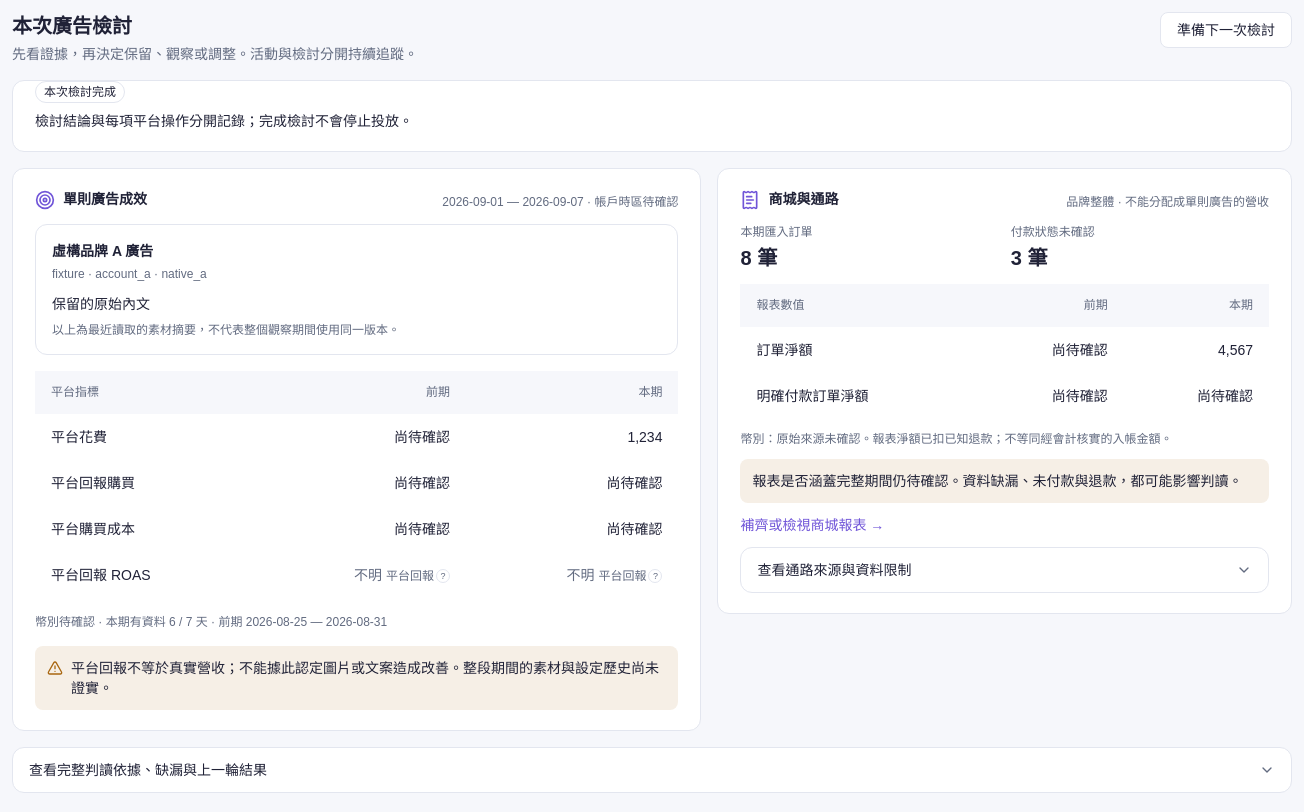
F36-I09 組織時鐘：觀察期間預設 › 結束日是組織的昨天（UTC+14 已是 3/1），不是瀏覽器的；下一輪門檻也用同一個今天
The width and height of the screenshot is (1304, 812).
What coordinates should you click on to do the following:
click the button "準備下一次檢討"
I would click on:
 (1226, 30)
Its box is [1160,12,1292,48].
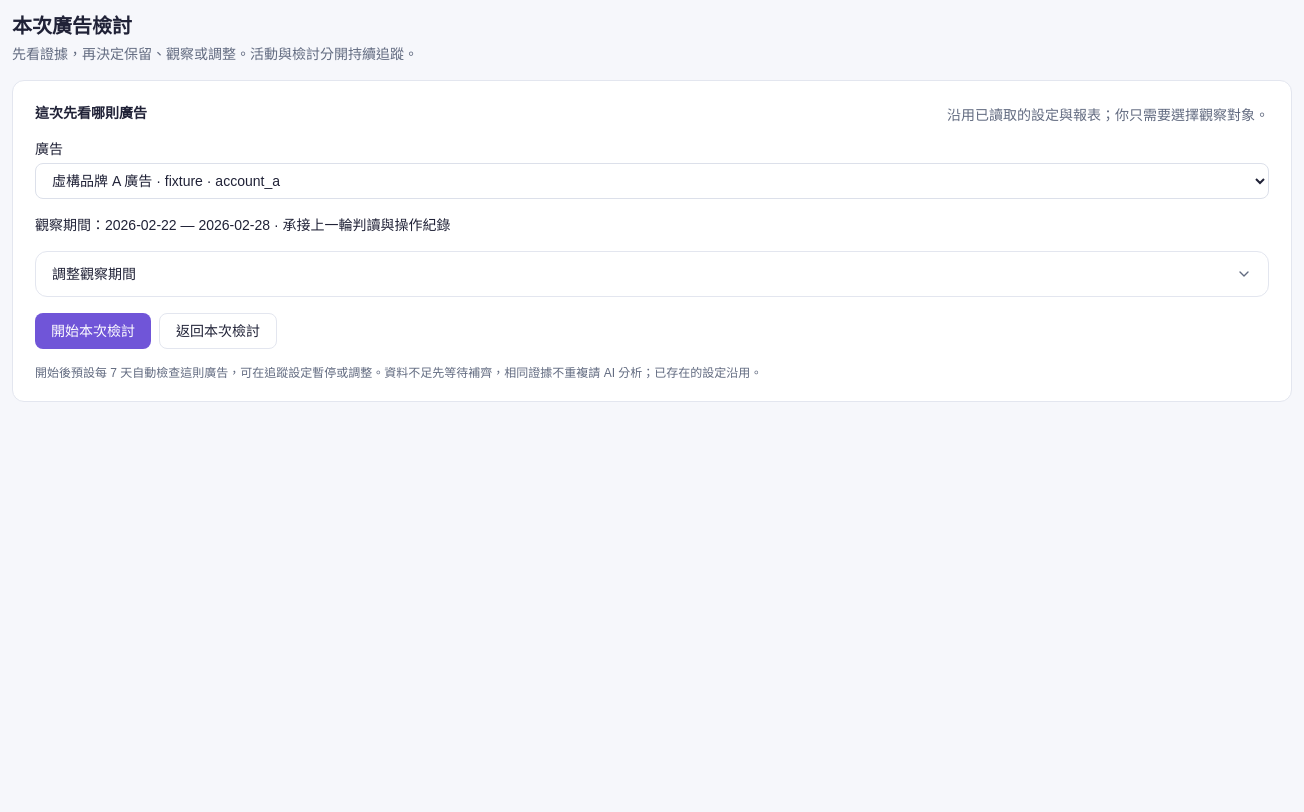
What coordinates should you click on to do the following:
click the button "調整觀察期間"
I would click on:
 (94, 274)
Its box is [36,252,1268,296].
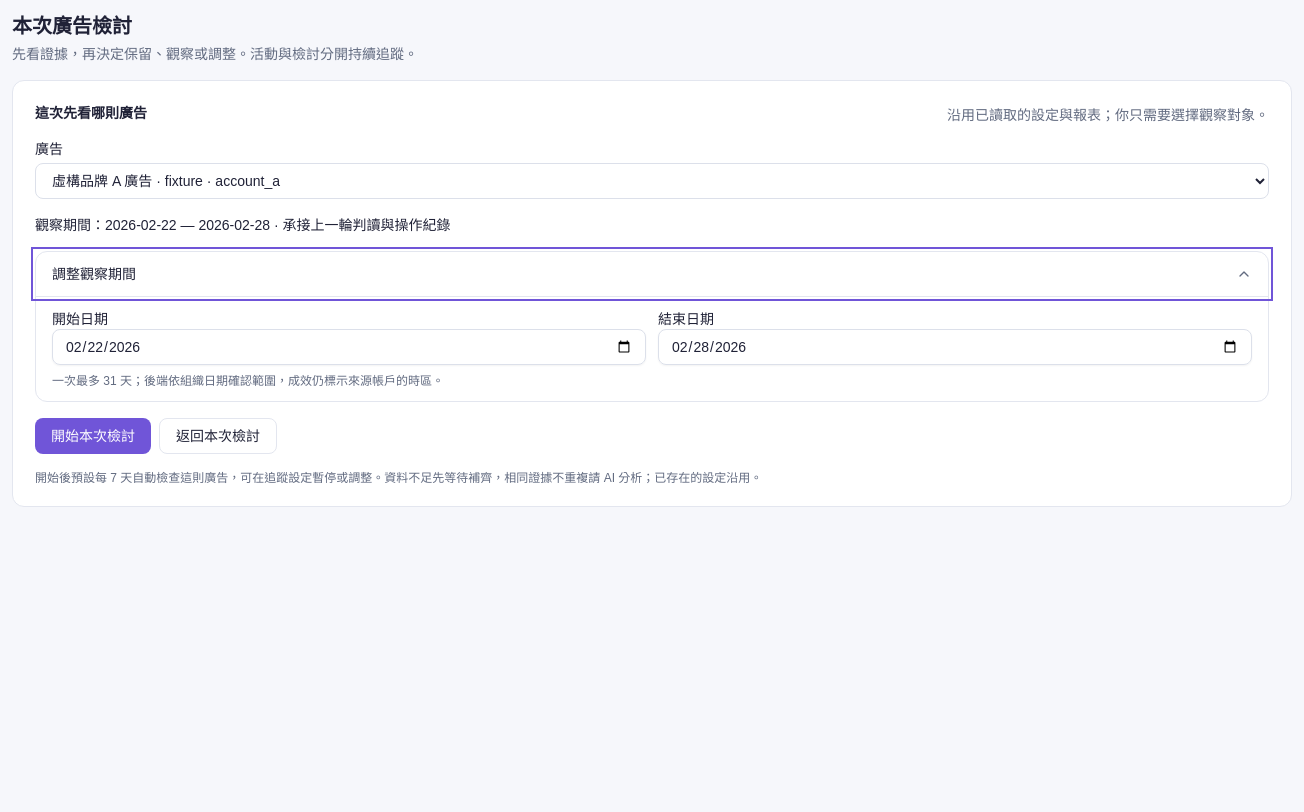
Check: the date field labelled "開始日期" holds "2026-02-22", box [52,329,646,365]
Check: the date field labelled "結束日期" holds "2026-02-28", box [658,329,1252,365]
